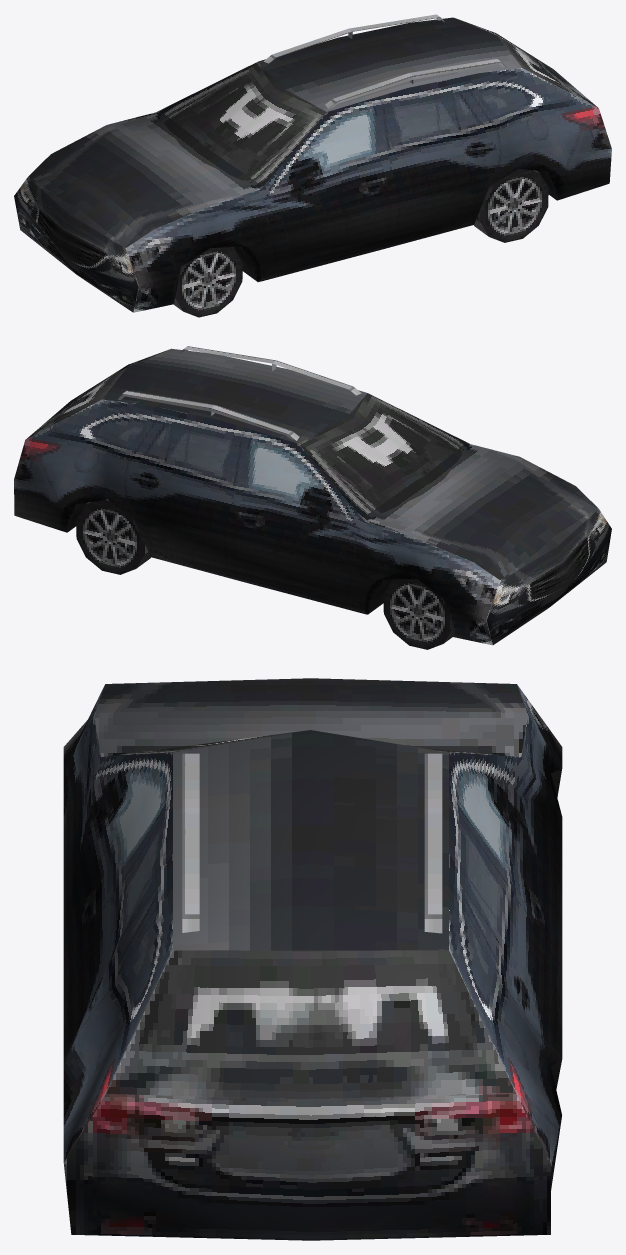
The model's file is Meshda.glb.
The picture shows the model from 3 angles, top to bottom: view 1: azimuth 30°, elevation 25°; view 2: azimuth 150°, elevation 25°; view 3: azimuth 270°, elevation 25°; orthographic projection. The views are drawn at different scales.
Visible parts, largest first — view 1: Meshda; view 2: Meshda; view 3: Meshda.
Boxes of the visible parts, left/top/right/bottom form: Meshda: left=14, top=14, right=611, bottom=317; Meshda: left=14, top=346, right=611, bottom=649; Meshda: left=63, top=678, right=562, bottom=1240.
Size of the model in its own units: 13.91 by 4.38 by 5.95.
Materials: 1 (1 with a texture image).
